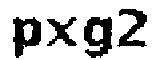2: (117, 5, 151, 52)
g: (80, 14, 115, 60)
p: (9, 13, 41, 60)
x: (43, 15, 79, 49)
